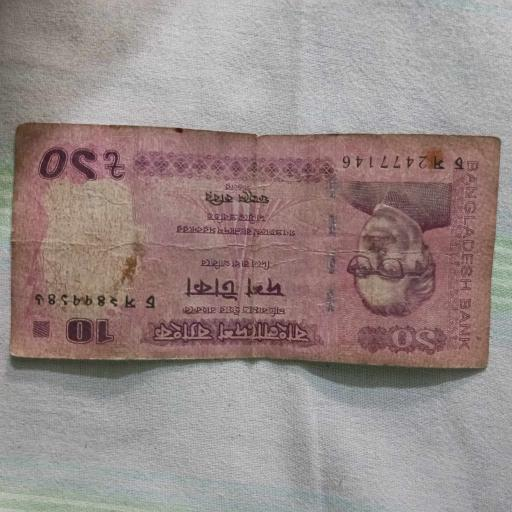10taka: (12, 124, 498, 372)
